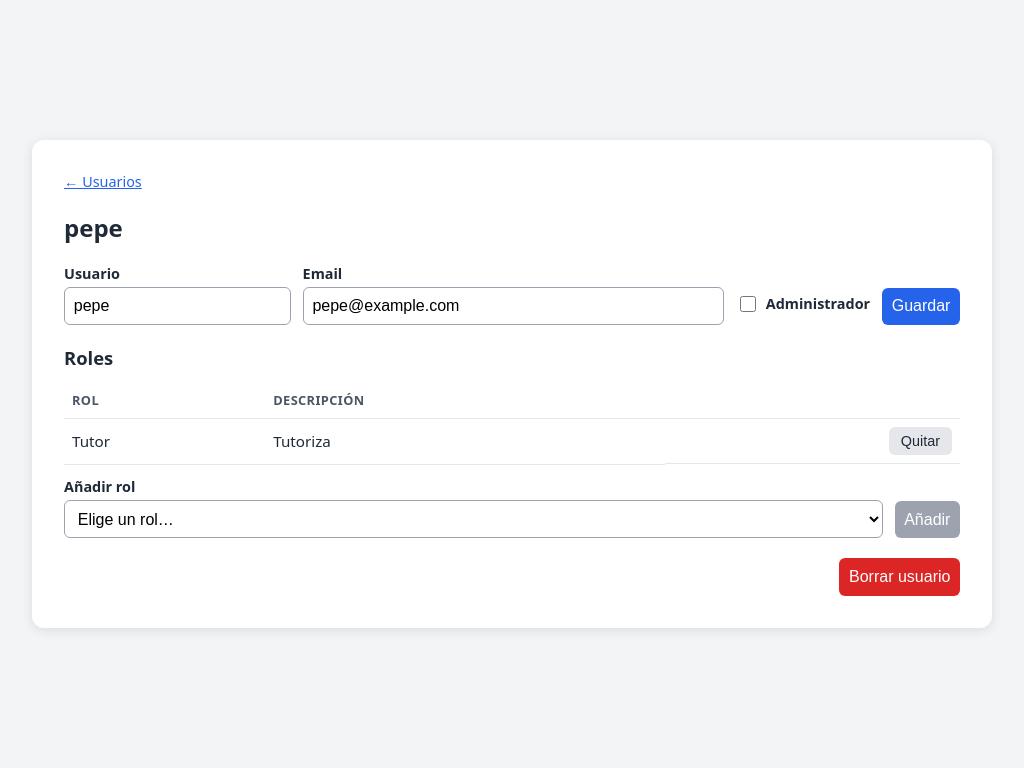
Test: UsuarioDetalle › renombra, hace administrador y avisa a App para refrescar la sesión
The width and height of the screenshot is (1024, 768).
Replace the text in the field labelled "Usuario" with "jose" at (177, 306), box [64,287,291,325]
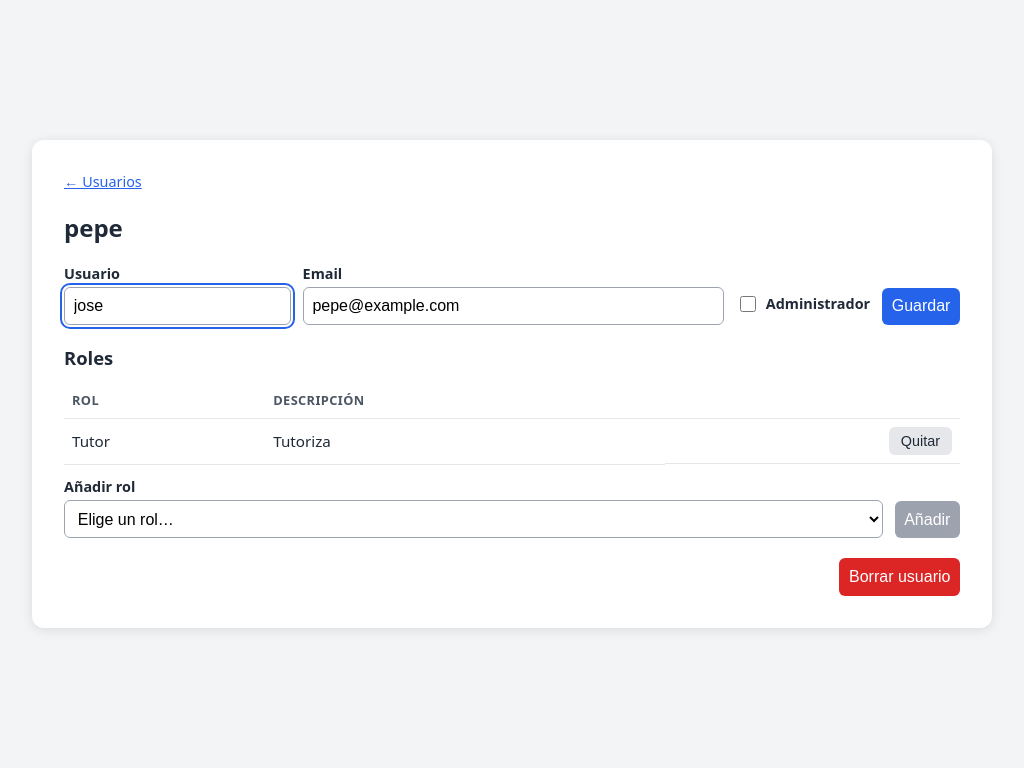
Click the checkbox labelled "Administrador" at (748, 304), box [740,296,756,312]
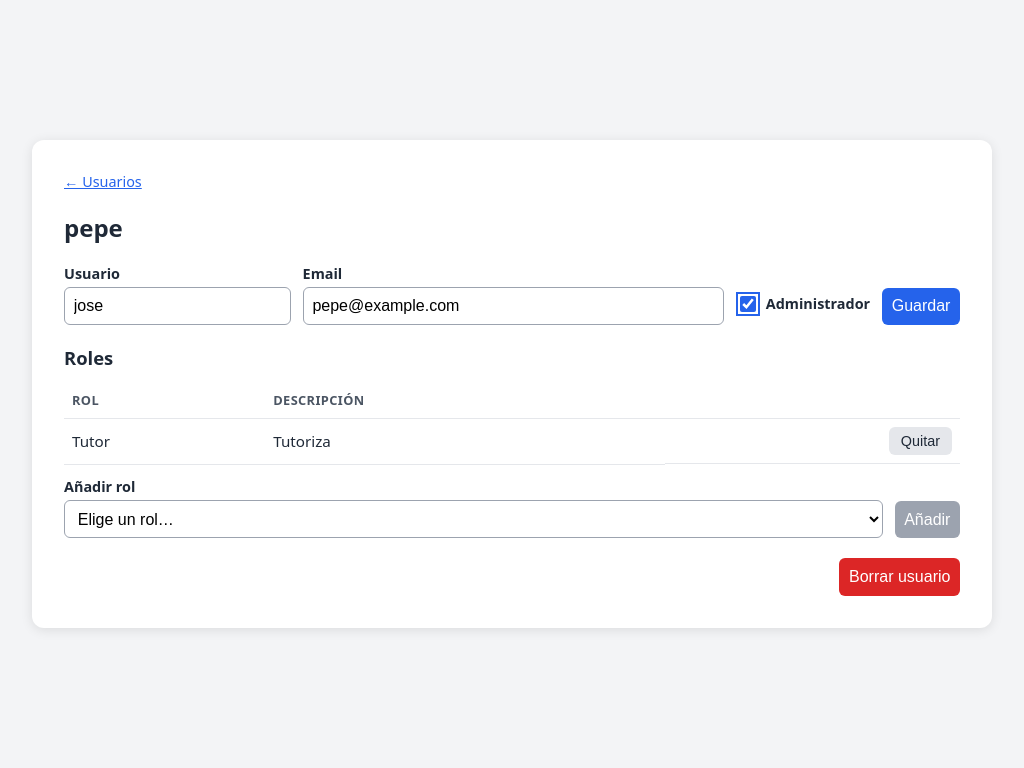
Click the button "Guardar" at (921, 306), box [882,288,960,325]
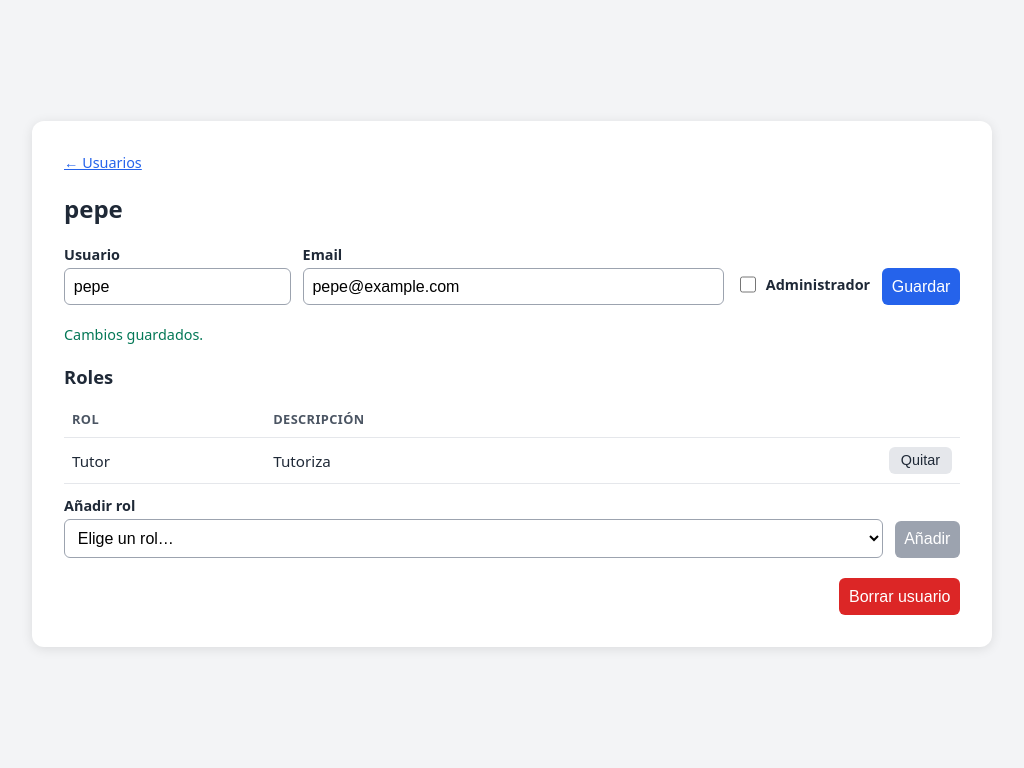
Check: the message reads "Cambios guardados.", box [64,326,203,344]
